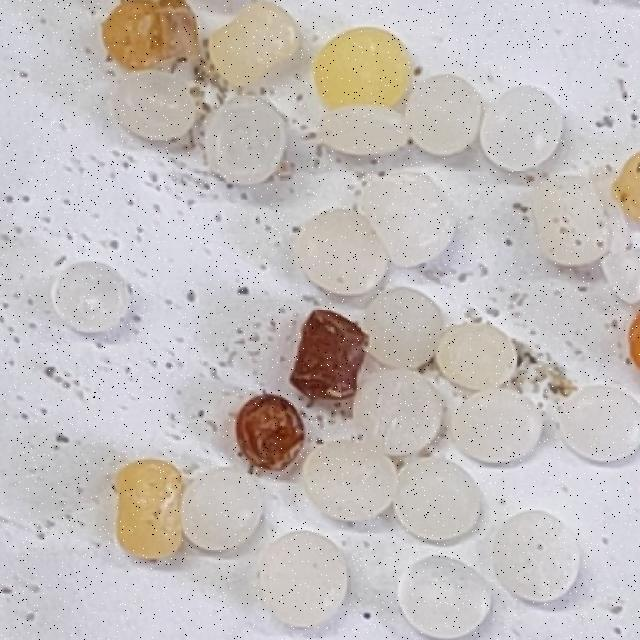beads: (349, 153, 472, 280), (339, 352, 459, 473), (377, 442, 496, 562), (165, 453, 276, 568), (466, 72, 577, 186), (103, 59, 208, 155), (296, 435, 403, 529), (221, 384, 320, 484), (491, 507, 587, 607), (256, 530, 349, 629), (530, 170, 615, 272), (399, 68, 489, 163), (356, 283, 448, 375), (294, 210, 390, 297), (313, 26, 413, 109), (43, 255, 138, 341), (205, 96, 288, 185), (103, 0, 199, 71), (454, 391, 544, 464), (434, 321, 519, 394), (560, 389, 640, 462), (320, 104, 409, 155), (1, 1, 1, 1)
fragments: (197, 0, 310, 95), (287, 307, 373, 409), (116, 460, 183, 559)
